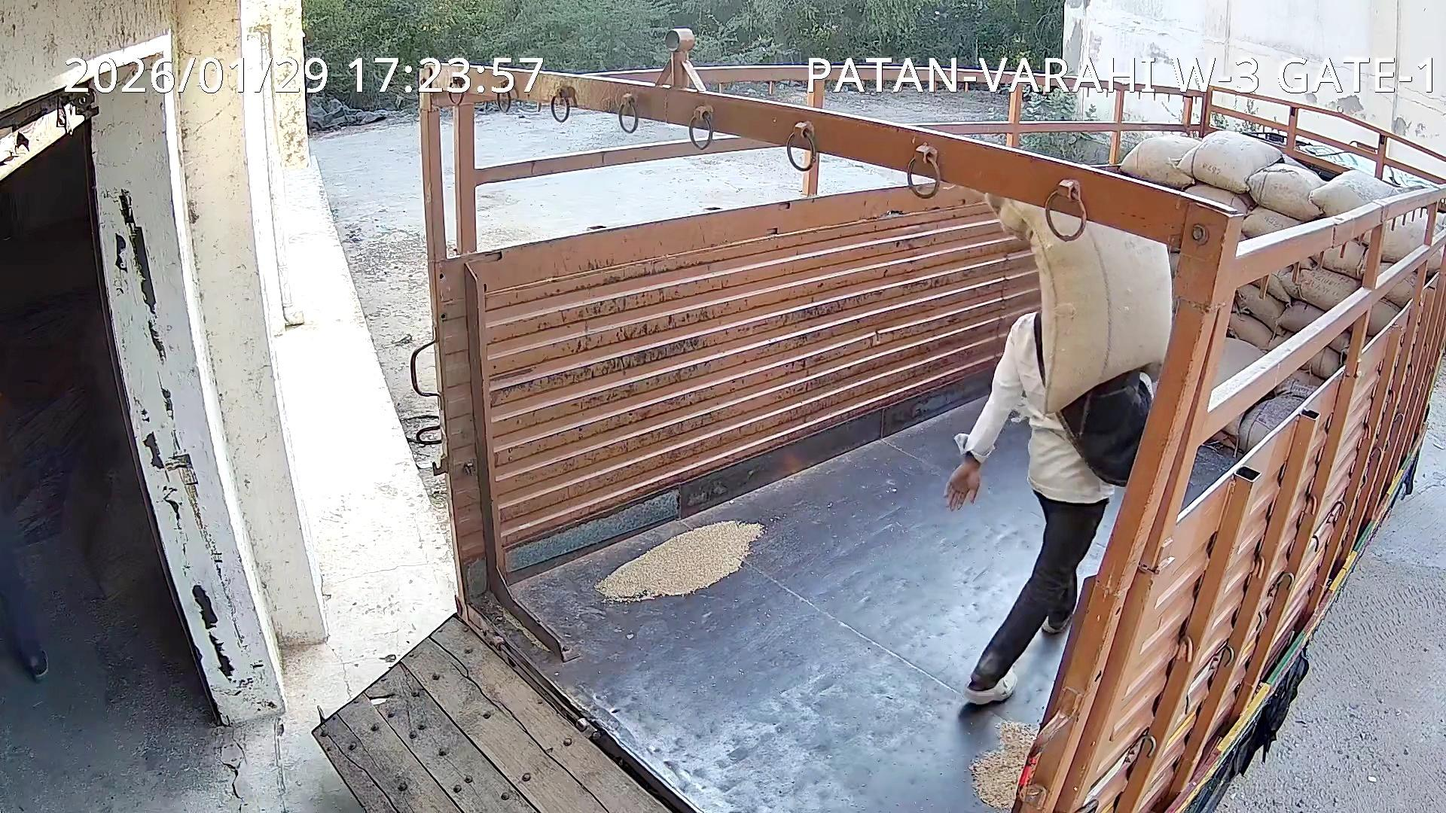Sack: (987, 196, 1172, 410)
